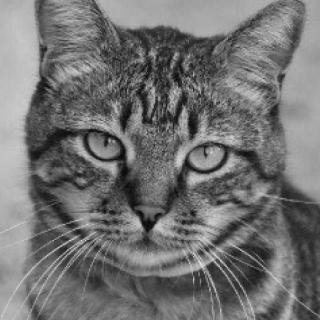cat: (13, 0, 298, 277)
nose: (123, 182, 180, 237)
